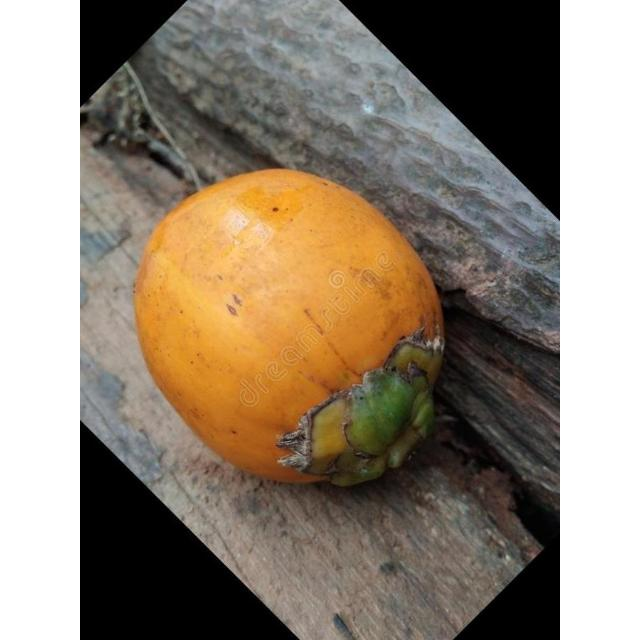good: (132, 168, 446, 488)
